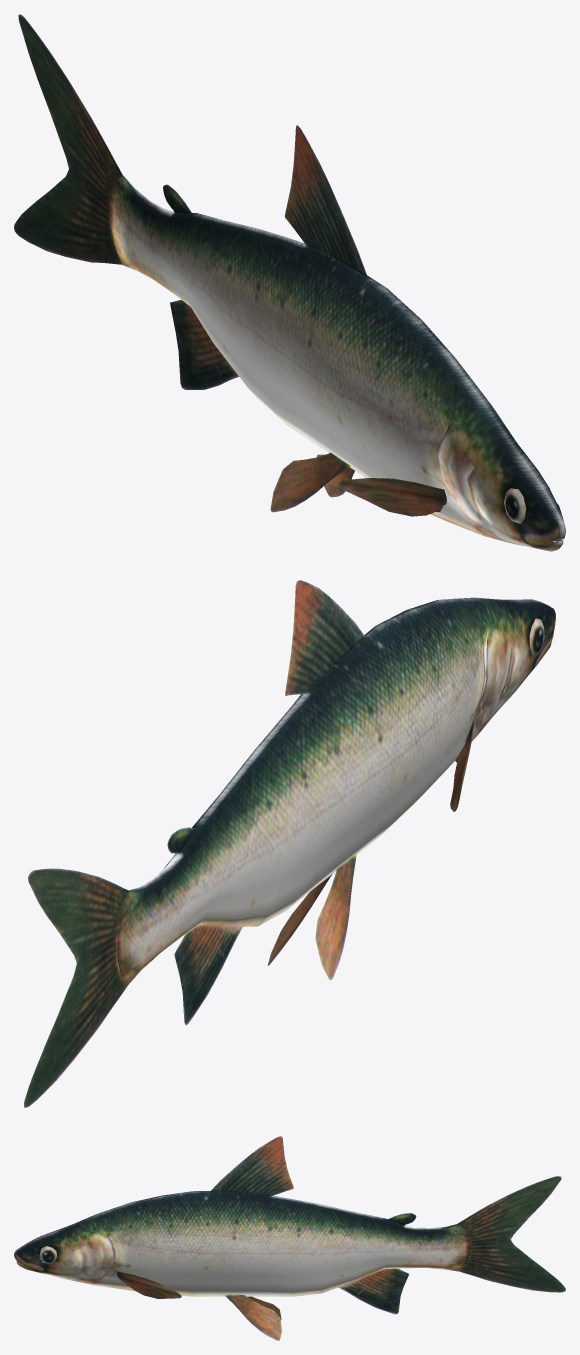
Rendered from siika_-_whitefish.glb.
3 renders of one model, top to bottom at view 1: azimuth 30°, elevation 25°; view 2: azimuth 150°, elevation 25°; view 3: azimuth 270°, elevation 25°, orthographic. The views are drawn at different scales.
Parts seen in each view (by area): view 1: Plane, Plane.001, Plane.003, Plane.004; view 2: Plane, Plane.001, Plane.003, Plane.004; view 3: Plane, Plane.001, Plane.003, Plane.004.
Part boxes in pixels (bbox=[...]): Plane: bbox=[111, 175, 565, 551]; Plane.001: bbox=[14, 14, 367, 389]; Plane.003: bbox=[270, 452, 354, 512]; Plane.004: bbox=[338, 478, 446, 516]; Plane: bbox=[117, 597, 555, 984]; Plane.001: bbox=[24, 580, 365, 1107]; Plane.003: bbox=[267, 853, 356, 980]; Plane.004: bbox=[450, 721, 473, 811]; Plane: bbox=[14, 1191, 470, 1296]; Plane.001: bbox=[210, 1136, 565, 1314]; Plane.003: bbox=[224, 1294, 281, 1340]; Plane.004: bbox=[116, 1271, 181, 1298].
Size of the model in its own units: 1.21 by 3.6 by 9.13.
Materials: 5 (5 with a texture image).
